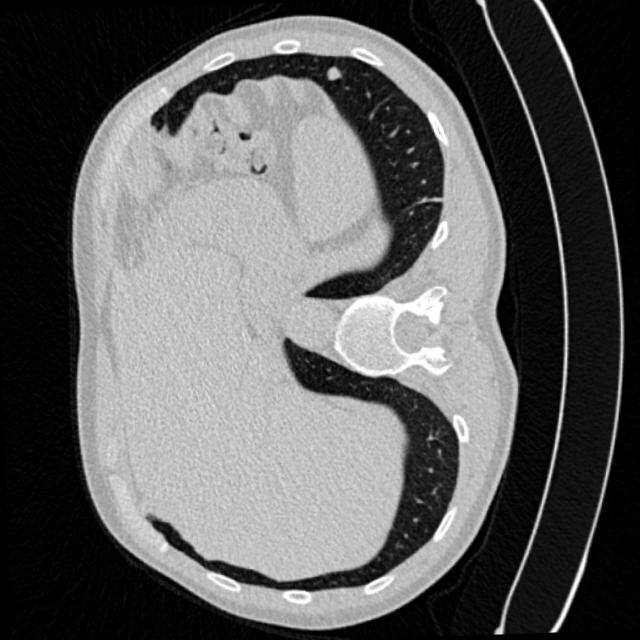nodule: (315, 58, 348, 91)
